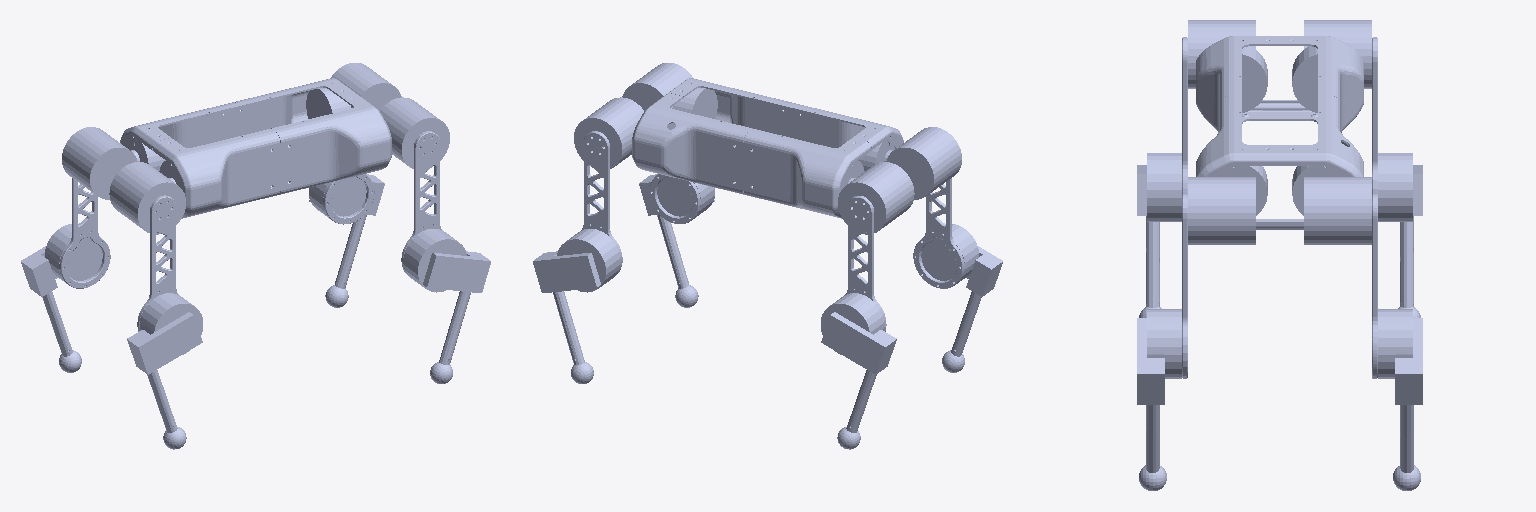
URDF robot description (bigreddog_plus):
<?xml version="1.0" encoding="utf-8"?>
<!-- This URDF was automatically created by SolidWorks to URDF Exporter! Originally created by Stephen Brawner (brawner@gmail.com) 
     Commit Version: 1.6.0-4-g7f85cfe  Build Version: 1.6.7995.38578
     For more information, please see http://wiki.ros.org/sw_urdf_exporter -->
<robot
  name="bigreddog_plus">
  <mujoco>
    <compiler
      meshdir="../meshes"
      balanceinertia="true"
      discardvisual="false" />
  </mujoco>
  <link
    name="base_link">
    <inertial>
      <origin
        xyz="-0.00014561 -0.00009835 -0.00003058"
        rpy="0 0 0" />
      <mass
        value="5.20000000" />
      <inertia
        ixx="0.04605119"
        ixy="0.00007072"
        ixz="0.00003588"
        iyy="0.11846756"
        iyz="0.00002386"
        izz="0.14463111" />
    </inertial>
    <visual>
      <origin
        xyz="0 0 0"
        rpy="0 0 0" />
      <geometry>
        <mesh
          filename="../meshes/base_link.STL" />
      </geometry>
      <material
        name="">
        <color
          rgba="0.792156862745098 0.819607843137255 0.929411764705882 1" />
      </material>
    </visual>
    <collision>
      <origin xyz="0 0 0" rpy="0 0 0"/>
      <geometry>
        <box size="0.416 0.242 0.127"/>
      </geometry>
    </collision>
  </link>
  <link
    name="FL_hip_link">
    <inertial>
      <origin
        xyz="0.03811454 0.01253389 0.00000000"
        rpy="0 0 0" />
      <mass
        value="0.69000000" />
      <inertia
        ixx="0.00095370"
        ixy="-0.00019117"
        ixz="-0.0000001"
        iyy="0.00159060"
        iyz="-0.0000001"
        izz="0.00173304" />
    </inertial>
    <visual>
      <origin
        xyz="0 0 0"
        rpy="0 0 0" />
      <geometry>
        <mesh
          filename="../meshes/FL_hip_link.STL" />
      </geometry>
      <material
        name="">
        <color
          rgba="0.792156862745098 0.819607843137255 0.933333333333333 1" />
      </material>
    </visual>
    <collision>
      <origin xyz="0.05892 0.02 0" rpy="-1.5708 0 0"/>
      <geometry>
        <cylinder radius="0.05" length="0.09"/>
      </geometry>
    </collision> 
  </link>
  <joint
    name="FL_hip_joint"
    type="revolute">
    <origin
      xyz="0.205 0.0655 0"
      rpy="0 0 0" />
    <parent
      link="base_link" />
    <child
      link="FL_hip_link" />
    <axis
      xyz="1 0 0" />
    <limit
      lower="-1.0472"
      upper="1.0472"
      effort="40.0"
      velocity="20." />
  </joint>
  <link
    name="FL_thigh_link">
    <inertial>
      <origin
        xyz="-0.00024981 0.00400000 -0.11109287"
        rpy="0 0 0" />
      <mass
        value="1.09500000" />
      <inertia
        ixx="0.00743413"
        ixy="-0.0000001"
        ixz="0.00000601"
        iyy="0.00794121"
        iyz="-0.0000001"
        izz="0.00051848" />
    </inertial>
    <visual>
      <origin
        xyz="0 0 0"
        rpy="0 0 0" />
      <geometry>
        <mesh
          filename="../meshes/FL_thigh_link.STL" />
      </geometry>
      <material
        name="">
        <color
          rgba="0.792156862745098 0.819607843137255 0.933333333333333 1" />
      </material>
    </visual>
    <collision>
      <origin xyz="0 0.01 -0.088" rpy="0 0 0"/>
      <geometry>
        <box size="0.05 0.018 0.2"/>
      </geometry>
    </collision>
    <collision>
      <origin xyz="0 0.03 -0.21" rpy="-1.5708 0 0"/>
      <geometry>
        <cylinder radius="0.049" length="0.05"/>
      </geometry>
    </collision>
  </link>
  <joint
    name="FL_thigh_joint"
    type="revolute">
    <origin
      xyz="0.060219 0.0665 0"
      rpy="0 0 0" />
    <parent
      link="FL_hip_link" />
    <child
      link="FL_thigh_link" />
    <axis
      xyz="0 1 0" />
    <limit
      lower="-2.583"
      upper="2.286"
      effort="40.0"
      velocity="20." />
  </joint>
  <link
    name="FL_calf_link">
    <inertial>
      <origin
        xyz="0.01079720 0.03338606 -0.02026173"
        rpy="0 0 0" />
      <mass
        value="1.11000000" />
      <inertia
        ixx="0.00381491"
        ixy="-0.00015134"
        ixz="0.00017873"
        iyy="0.00456397"
        iyz="0.00023186"
        izz="0.00143809" />
    </inertial>
    <visual>
      <origin
        xyz="0 0 0"
        rpy="0 0 0" />
      <geometry>
        <mesh
          filename="../meshes/FL_calf_link.STL" />
      </geometry>
      <material
        name="">
        <color
          rgba="0.792156862745098 0.819607843137255 0.929411764705882 1" />
      </material>
    </visual>
    <collision>
      <origin xyz="0.02625 0.06 -0.00955" rpy="0 0.349 0"/>
      <geometry>
        <box size="0.115 0.015 0.06"/>
      </geometry>
    </collision>
    <collision>
      <origin xyz="0.02919 0.04 -0.1197" rpy="0 0.349 0"/>
      <geometry>
        <cylinder radius="0.015" length="0.145"/>
      </geometry>
    </collision>
  </link>
  <joint
    name="FL_calf_joint"
    type="revolute">
    <origin
      xyz="0 0.008 -0.21"
      rpy="0 0 0" />
    <parent
      link="FL_thigh_link" />
    <child
      link="FL_calf_link" />
    <axis
      xyz="0 1 0" />
    <limit
      lower="-2.792"
      upper="2.809"
      effort="40.0"
      velocity="20." />
  </joint>
  <link name="FL_foot">
    <inertial>
      <origin xyz="0 0 0" rpy="0 0 0" />
      <mass value="0.04" />
      <inertia ixx="0.0000096" ixy="0.0" ixz="0.0" iyy="0.0000096" iyz="0.0" izz="0.0000096" />
    </inertial>

    <collision>
      <origin xyz="0 0 0" rpy="0 0 0"/>
      <geometry>
        <sphere radius="0.02"/>
      </geometry>
    </collision>

  </link>
  <joint name="FL_foot_fix" type="fixed" dont_collapse="true">
    <origin xyz="0.005 0.04 -0.21" rpy="0 0 0" />
    <parent link="FL_calf_link" />
    <child link="FL_foot" />
    <axis xyz="0 0 0" /> 
  </joint>
  <link
    name="FR_hip_link">
    <inertial>
      <origin
        xyz="0.03811451 -0.01253389 0.00000000"
        rpy="0 0 0" />
      <mass
        value="0.69000000" />
      <inertia
        ixx="0.00095370"
        ixy="0.00019117"
        ixz="-0.0000001"
        iyy="0.00159060"
        iyz="-0.0000001"
        izz="0.00173304" />
    </inertial>
    <visual>
      <origin
        xyz="0 0 0"
        rpy="0 0 0" />
      <geometry>
        <mesh
          filename="../meshes/FR_hip_link.STL" />
      </geometry>
      <material
        name="">
        <color
          rgba="0.792156862745098 0.819607843137255 0.933333333333333 1" />
      </material>
    </visual>
    <collision>
      <origin xyz="0.05892 -0.02 0" rpy="-1.5708 0 0"/>
      <geometry>
        <cylinder radius="0.05" length="0.09"/>
      </geometry>
    </collision>
  </link>
  <joint
    name="FR_hip_joint"
    type="revolute">
    <origin
      xyz="0.204999999999999 -0.0654999999999999 0"
      rpy="0 0 0" />
    <parent
      link="base_link" />
    <child
      link="FR_hip_link" />
    <axis
      xyz="1 0 0" />
    <limit
      lower="-1.0472"
      upper="1.0472"
      effort="40.0"
      velocity="20." />
  </joint>
  <link
    name="FR_thigh_link">
    <inertial>
      <origin
        xyz="-0.00024875 -0.00400001 -0.11109627"
        rpy="0 0 0" />
      <mass
        value="1.09500000" />
      <inertia
        ixx="0.00743428"
        ixy="-0.0000001"
        ixz="0.00000620"
        iyy="0.00794107"
        iyz="-0.0000001"
        izz="0.00051820" />
    </inertial>
    <visual>
      <origin
        xyz="0 0 0"
        rpy="0 0 0" />
      <geometry>
        <mesh
          filename="../meshes/FR_thigh_link.STL" />
      </geometry>
      <material
        name="">
        <color
          rgba="0.792156862745098 0.819607843137255 0.933333333333333 1" />
      </material>
    </visual>
    <collision>
      <origin xyz="0 -0.01 -0.088" rpy="0 0 0"/>
      <geometry>
        <box size="0.05 0.018 0.2"/>
      </geometry>
    </collision>
    <collision>
      <origin xyz="0 -0.03 -0.21" rpy="-1.5708 0 0"/>
      <geometry>
        <cylinder radius="0.049" length="0.05"/>
      </geometry>
    </collision>
  </link>
  <joint
    name="FR_thigh_joint"
    type="revolute">
    <origin
      xyz="0.060219 -0.0665 0"
      rpy="0 0 0" />
    <parent
      link="FR_hip_link" />
    <child
      link="FR_thigh_link" />
    <axis
      xyz="0 1 0" />
    <limit
      lower="-2.583"
      upper="2.286"
      effort="40.0"
      velocity="20." />
  </joint>
  <link
    name="FR_calf_link">
    <inertial>
      <origin
        xyz="0.01079710 -0.03338602 -0.02026157"
        rpy="0 0 0" />
      <mass
        value="1.11000000" />
      <inertia
        ixx="0.00381492"
        ixy="0.00015134"
        ixz="0.00017872"
        iyy="0.00456398"
        iyz="-0.00023186"
        izz="0.00143809" />
    </inertial>
    <visual>
      <origin
        xyz="0 0 0"
        rpy="0 0 0" />
      <geometry>
        <mesh
          filename="../meshes/FR_calf_link.STL" />
      </geometry>
      <material
        name="">
        <color
          rgba="0.792156862745098 0.819607843137255 0.929411764705882 1" />
      </material>
    </visual>
    <collision>
      <origin xyz="0.02625 -0.06 -0.00955" rpy="0 0.349 0"/>
      <geometry>
        <box size="0.115 0.015 0.06"/>
      </geometry>
    </collision>
    <collision>
      <origin xyz="0.02919 -0.04 -0.1197" rpy="0 0.349 0"/>
      <geometry>
        <cylinder radius="0.015" length="0.145"/>
      </geometry>
    </collision>
  </link>
  <joint
    name="FR_calf_joint"
    type="revolute">
    <origin
      xyz="0 -0.008 -0.21"
      rpy="0 0 0" />
    <parent
      link="FR_thigh_link" />
    <child
      link="FR_calf_link" />
    <axis
      xyz="0 1 0" />
    <limit
      lower="-2.792"
      upper="2.809"
      effort="40.0"
      velocity="20." />
  </joint>
  <link name="FR_foot">
    <inertial>
      <origin xyz="0 0 0" rpy="0 0 0" />
      <mass value="0.04" />
      <inertia ixx="0.0000096" ixy="0.0" ixz="0.0" iyy="0.0000096" iyz="0.0" izz="0.0000096" />
    </inertial>
    <collision>
      <origin xyz="0 0 0" rpy="0 0 0"/>
      <geometry>
        <sphere radius="0.02"/>
      </geometry>
    </collision>
  </link>
  <joint name="FR_foot_fix" type="fixed" dont_collapse="true">
    <origin xyz="0.005 -0.04 -0.21" rpy="0 0 0" />
    <parent link="FR_calf_link" />
    <child link="FR_foot" />
    <axis xyz="0 0 0" /> 
  </joint>
  <link
    name="RL_hip_link">
    <inertial>
      <origin
        xyz="-0.03811451 0.01253389 0.00000000"
        rpy="0 0 0" />
      <mass
        value="0.69000000" />
      <inertia
        ixx="0.00095370"
        ixy="0.00019117"
        ixz="-0.0000001"
        iyy="0.00159060"
        iyz="-0.0000001"
        izz="0.00173304" />
    </inertial>
    <visual>
      <origin
        xyz="0 0 0"
        rpy="0 0 0" />
      <geometry>
        <mesh
          filename="../meshes/RL_hip_link.STL" />
      </geometry>
      <material
        name="">
        <color
          rgba="0.792156862745098 0.819607843137255 0.933333333333333 1" />
      </material>
    </visual>
    <collision>
      <origin xyz="-0.05892 0.02 0" rpy="-1.5708 0 0"/>
      <geometry>
        <cylinder radius="0.05" length="0.09"/>
      </geometry>
    </collision>
  </link>
  <joint
    name="RL_hip_joint"
    type="revolute">
    <origin
      xyz="-0.205 0.0655 0"
      rpy="0 0 0" />
    <parent
      link="base_link" />
    <child
      link="RL_hip_link" />
    <axis
      xyz="1 0 0" />
    <limit
      lower="-1.0472"
      upper="1.0472"
      effort="40.0"
      velocity="20." />
  </joint>
  <link
    name="RL_thigh_link">
    <inertial>
      <origin
        xyz="0.00024822 0.00400000 -0.11109623"
        rpy="0 0 0" />
      <mass
        value="1.09500000" />
      <inertia
        ixx="0.00743433"
        ixy="-0.0000001"
        ixz="-0.00000622"
        iyy="0.00794121"
        iyz="-0.0000001"
        izz="0.00051829" />
    </inertial>
    <visual>
      <origin
        xyz="0 0 0"
        rpy="0 0 0" />
      <geometry>
        <mesh
          filename="../meshes/RL_thigh_link.STL" />
      </geometry>
      <material
        name="">
        <color
          rgba="0.792156862745098 0.819607843137255 0.933333333333333 1" />
      </material>
    </visual>
    <collision>
      <origin xyz="0 0.01 -0.088" rpy="0 0 0"/>
      <geometry>
        <box size="0.05 0.018 0.2"/>
      </geometry>
    </collision>
    <collision>
      <origin xyz="0 0.03 -0.21" rpy="-1.5708 0 0"/>
      <geometry>
        <cylinder radius="0.049" length="0.05"/>
      </geometry>
    </collision>
  </link>
  <joint
    name="RL_thigh_joint"
    type="revolute">
    <origin
      xyz="-0.060219 0.0665 0"
      rpy="0 0 0" />
    <parent
      link="RL_hip_link" />
    <child
      link="RL_thigh_link" />
    <axis
      xyz="0 1 0" />
    <limit
      lower="-2.583"
      upper="2.286"
      effort="40.0"
      velocity="20." />
  </joint>
  <link
    name="RL_calf_link">
    <inertial>
      <origin
        xyz="-0.01079704 0.03338606 -0.02026155"
        rpy="0 0 0" />
      <mass
        value="1.11000000" />
      <inertia
        ixx="0.00381492"
        ixy="0.00015134"
        ixz="-0.00017872"
        iyy="0.00456397"
        iyz="0.00023186"
        izz="0.00143809" />
    </inertial>
    <visual>
      <origin
        xyz="0 0 0"
        rpy="0 0 0" />
      <geometry>
        <mesh
          filename="../meshes/RL_calf_link.STL" />
      </geometry>
      <material
        name="">
        <color
          rgba="0.792156862745098 0.819607843137255 0.929411764705882 1" />
      </material>
    </visual>
    <collision>
      <origin xyz="-0.02625 0.06 -0.00955" rpy="0 -0.349 0"/>
      <geometry>
        <box size="0.115 0.015 0.06"/>
      </geometry>
    </collision>
    <collision>
      <origin xyz="-0.02919 0.04 -0.1197" rpy="0 -0.349 0"/>
      <geometry>
        <cylinder radius="0.015" length="0.145"/>
      </geometry>
    </collision>
  </link>
  <joint
    name="RL_calf_joint"
    type="revolute">
    <origin
      xyz="0 0.008 -0.21"
      rpy="0 0 0" />
    <parent
      link="RL_thigh_link" />
    <child
      link="RL_calf_link" />
    <axis
      xyz="0 1 0" />
    <limit
      lower="-2.792"
      upper="2.809"
      effort="80.0"
      velocity="20." />
  </joint>
  <link name="RL_foot">
    <inertial>
      <origin xyz="0 0 0" rpy="0 0 0" />
      <mass value="0.04" />
      <inertia ixx="0.0000096" ixy="0.0" ixz="0.0" iyy="0.0000096" iyz="0.0" izz="0.0000096" />
    </inertial>
    <collision>
      <origin xyz="0 0 0" rpy="0 0 0"/>
      <geometry>
        <sphere radius="0.02"/>
      </geometry>
    </collision>
  </link>
  <joint name="RL_foot_fix" type="fixed" dont_collapse="true">
    <origin xyz="-0.005 0.04 -0.21" rpy="0 0 0" />
    <parent link="RL_calf_link" />
    <child link="RL_foot" />
    <axis xyz="0 0 0" /> 
  </joint>
  <link
    name="RR_hip_link">
    <inertial>
      <origin
        xyz="-0.03811454 -0.01253389 0.00000000"
        rpy="0 0 0" />
      <mass
        value="0.69000000" />
      <inertia
        ixx="0.00095370"
        ixy="-0.00019117"
        ixz="-0.0000001"
        iyy="0.00159060"
        iyz="-0.0000001"
        izz="0.00173304" />
    </inertial>
    <visual>
      <origin
        xyz="0 0 0"
        rpy="0 0 0" />
      <geometry>
        <mesh
          filename="../meshes/RR_hip_link.STL" />
      </geometry>
      <material
        name="">
        <color
          rgba="0.792156862745098 0.819607843137255 0.933333333333333 1" />
      </material>
    </visual>
    <collision>
      <origin xyz="-0.05892 -0.02 0" rpy="-1.5708 0 0"/>
      <geometry>
        <cylinder radius="0.05" length="0.09"/>
      </geometry>
    </collision>
  </link>
  <joint
    name="RR_hip_joint"
    type="revolute">
    <origin
      xyz="-0.205 -0.0655 0"
      rpy="0 0 0" />
    <parent
      link="base_link" />
    <child
      link="RR_hip_link" />
    <axis
      xyz="1 0 0" />
    <limit
      lower="-1.0472"
      upper="1.0472"
      effort="40.0"
      velocity="20." />
  </joint>
  <link
    name="RR_thigh_link">
    <inertial>
      <origin
        xyz="0.00025231 -0.00400001 -0.11108853"
        rpy="0 0 0" />
      <mass
        value="1.09500000" />
      <inertia
        ixx="0.00743362"
        ixy="-0.0000001"
        ixz="-0.00000569"
        iyy="0.00794097"
        iyz="-0.0000001"
        izz="0.00051875" />
    </inertial>
    <visual>
      <origin
        xyz="0 0 0"
        rpy="0 0 0" />
      <geometry>
        <mesh
          filename="../meshes/RR_thigh_link.STL" />
      </geometry>
      <material
        name="">
        <color
          rgba="0.792156862745098 0.819607843137255 0.933333333333333 1" />
      </material>
    </visual>
    <collision>
      <origin xyz="0 -0.01 -0.088" rpy="0 0 0"/>
      <geometry>
        <box size="0.05 0.018 0.2"/>
      </geometry>
    </collision>
    <collision>
      <origin xyz="0 -0.03 -0.21" rpy="-1.5708 0 0"/>
      <geometry>
        <cylinder radius="0.049" length="0.05"/>
      </geometry>
    </collision>
  </link>
  <joint
    name="RR_thigh_joint"
    type="revolute">
    <origin
      xyz="-0.060219 -0.0665 0"
      rpy="0 0 0" />
    <parent
      link="RR_hip_link" />
    <child
      link="RR_thigh_link" />
    <axis
      xyz="0 1 0" />
    <limit
      lower="-2.583"
      upper="2.286"
      effort="40.0"
      velocity="20." />
  </joint>
  <link
    name="RR_calf_link">
    <inertial>
      <origin
        xyz="-0.01079710 -0.03338606 -0.02026157"
        rpy="0 0 0" />
      <mass
        value="1.11000000" />
      <inertia
        ixx="0.00381491"
        ixy="-0.00015134"
        ixz="-0.00017872"
        iyy="0.00456398"
        iyz="-0.00023186"
        izz="0.00143808" />
    </inertial>
    <visual>
      <origin
        xyz="0 0 0"
        rpy="0 0 0" />
      <geometry>
        <mesh
          filename="../meshes/RR_calf_link.STL" />
      </geometry>
      <material
        name="">
        <color
          rgba="0.792156862745098 0.819607843137255 0.933333333333333 1" />
      </material>
    </visual>
    <collision>
      <origin xyz="-0.02625 -0.06 -0.00955" rpy="0 -0.349 0"/>
      <geometry>
        <box size="0.115 0.015 0.06"/>
      </geometry>
    </collision>
    <collision>
      <origin xyz="-0.02919 -0.04 -0.1197" rpy="0 -0.349 0"/>
      <geometry>
        <cylinder radius="0.015" length="0.145"/>
      </geometry>
    </collision>
  </link>
  <joint
    name="RR_calf_joint"
    type="revolute">
    <origin
      xyz="0 -0.008 -0.21"
      rpy="0 0 0" />
    <parent
      link="RR_thigh_link" />
    <child
      link="RR_calf_link" />
    <axis
      xyz="0 1 0" />
    <limit
      lower="-2.792"
      upper="2.809"
      effort="40.0"
      velocity="20." />
  </joint>
  <link name="RR_foot">
    <inertial>
      <origin xyz="0 0 0" rpy="0 0 0" />
      <mass value="0.04" />
      <inertia ixx="0.0000096" ixy="0.0" ixz="0.0" iyy="0.0000096" iyz="0.0" izz="0.0000096" />
    </inertial>
    <collision>
      <origin xyz="0 0 0" rpy="0 0 0"/>
      <geometry>
        <sphere radius="0.02"/>
      </geometry>
    </collision>
  </link>
  <joint name="RR_foot_fix" type="fixed" dont_collapse="true">
    <origin xyz="-0.005 -0.04 -0.21" rpy="0 0 0" />
    <parent link="RR_calf_link" />
    <child link="RR_foot" />
    <axis xyz="0 0 0" /> 
  </joint>
</robot>

--- Render facts (derived) ---
Views: 3 orthographic renders of the robot side by side, from view 1: azimuth 30°, elevation 25°; view 2: azimuth 150°, elevation 25°; view 3: azimuth 270°, elevation 25°.
Robot: bigreddog_plus — 17 links, 16 joints (12 revolute, 4 fixed); root link base_link; default pose: all joints at 0.
Visible links, largest first — view 1: base_link, FR_calf_link, RR_calf_link, RL_calf_link, RL_hip_link, RR_hip_link, FL_calf_link, FL_hip_link, FR_hip_link, FR_thigh_link, RR_thigh_link, RL_thigh_link (+1 smaller); view 2: base_link, FL_calf_link, RL_calf_link, RR_calf_link, RR_hip_link, RL_hip_link, FR_calf_link, FL_hip_link, FR_hip_link, FL_thigh_link, RL_thigh_link, RR_thigh_link (+1 smaller); view 3: base_link, FL_hip_link, FR_hip_link, FL_calf_link, FR_calf_link, RL_calf_link, RR_calf_link, RL_hip_link, RR_hip_link, FL_thigh_link, FR_thigh_link, RL_thigh_link (+1 smaller).
Link boxes in pixels (<box>): base_link: <box>120,78,391,218</box>; FR_calf_link: <box>403,229,490,383</box>; RR_calf_link: <box>127,293,202,449</box>; RL_calf_link: <box>21,224,102,372</box>; RL_hip_link: <box>62,127,165,199</box>; RR_hip_link: <box>109,161,185,234</box>; FL_calf_link: <box>309,174,384,307</box>; FL_hip_link: <box>306,63,401,118</box>; FR_hip_link: <box>380,97,449,168</box>; FR_thigh_link: <box>401,131,442,273</box>; RR_thigh_link: <box>137,195,179,331</box>; RL_thigh_link: <box>59,178,110,288</box>; base_link: <box>632,78,903,218</box>; FL_calf_link: <box>533,229,620,383</box>; RL_calf_link: <box>821,293,896,449</box>; RR_calf_link: <box>921,224,1002,372</box>; RR_hip_link: <box>858,127,961,199</box>; RL_hip_link: <box>838,161,914,234</box>; FR_calf_link: <box>639,174,714,307</box>; FL_hip_link: <box>574,97,675,168</box>; FR_hip_link: <box>622,63,717,118</box>; FL_thigh_link: <box>581,131,622,273</box>; RL_thigh_link: <box>844,196,886,331</box>; RR_thigh_link: <box>913,178,964,288</box>; base_link: <box>1196,36,1363,229</box>; FL_hip_link: <box>1292,165,1371,244</box>; FR_hip_link: <box>1188,165,1267,244</box>; FL_calf_link: <box>1378,309,1422,490</box>; FR_calf_link: <box>1137,309,1181,490</box>; RL_calf_link: <box>1378,153,1422,317</box>; RR_calf_link: <box>1137,153,1181,317</box>; RL_hip_link: <box>1292,20,1371,112</box>; RR_hip_link: <box>1188,20,1267,112</box>; FL_thigh_link: <box>1372,194,1377,378</box>; FR_thigh_link: <box>1182,194,1187,378</box>; RL_thigh_link: <box>1372,37,1377,193</box>.
Size in the robot's own frame: 0.7093 by 0.411 by 0.5005 metres.
13 mesh visuals loaded from 13 distinct referenced files (13 binary STL).
